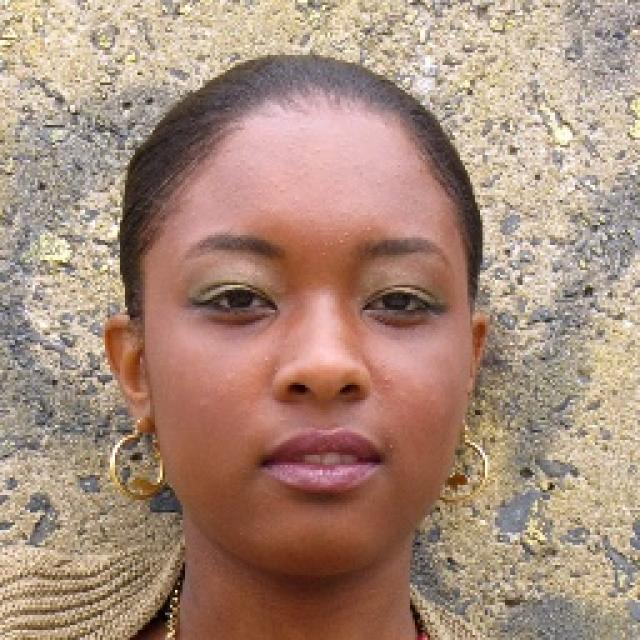earlobe: (130, 404, 155, 436)
eye: (197, 284, 273, 316), (364, 290, 434, 314)
nose: (271, 387, 373, 425)
wholeear: (104, 314, 155, 436), (466, 310, 492, 391)
